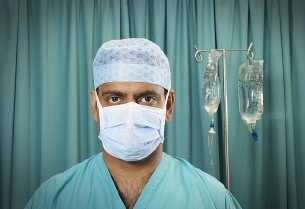Mask: (92, 84, 167, 159)
